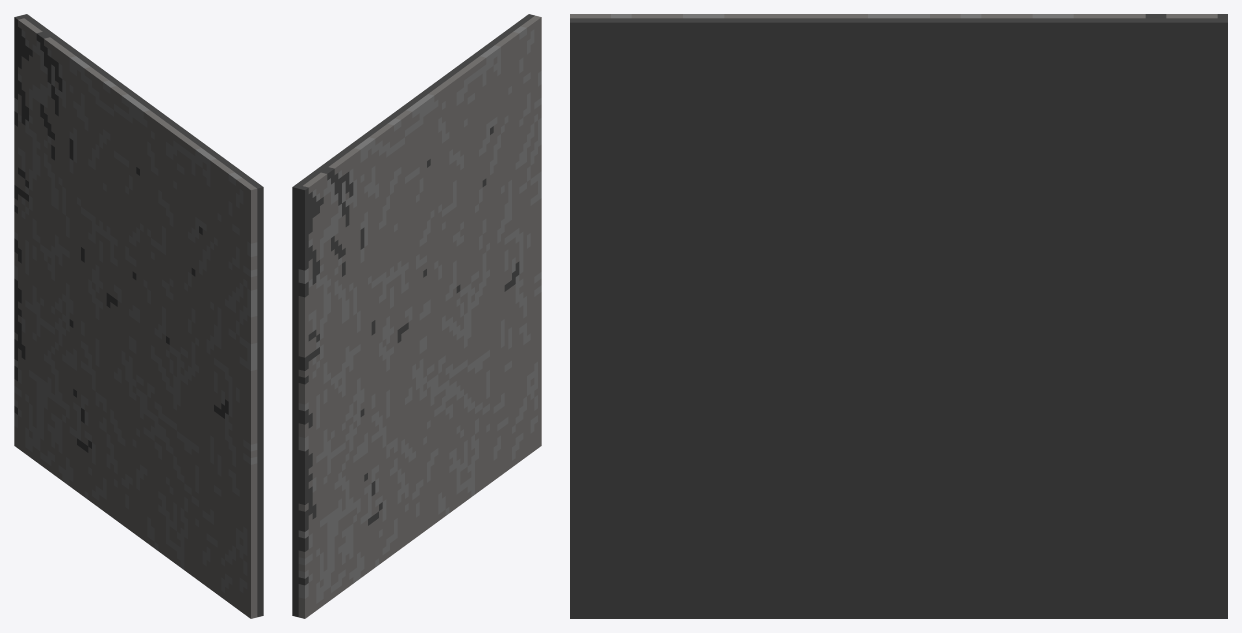
The model's file is MapFinalV1-4.obj.
3 views of the same model, side by side, from view 1: azimuth 30°, elevation 25°; view 2: azimuth 150°, elevation 25°; view 3: azimuth 270°, elevation 25° (orthographic). The views are drawn at different scales.
Bounding box in the file's own units: 0.2 × 6.4 × 6.4.
Materials: 1 (1 with a texture image).
